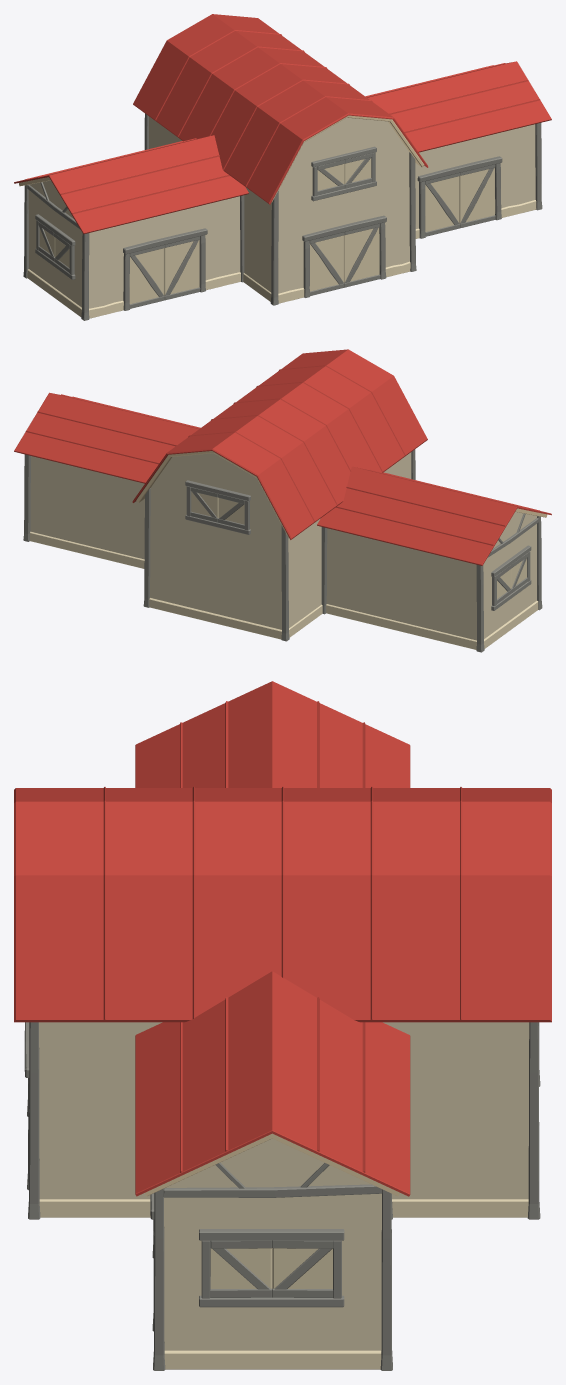
File: farmbuilding_d.gltf
3 renders of one model, top to bottom at view 1: azimuth 30°, elevation 25°; view 2: azimuth 150°, elevation 25°; view 3: azimuth 270°, elevation 25°, orthographic. The views are drawn at different scales.
Parts seen in each view (by area): view 1: Line071, Box710, Box790, farmbuilding_d001, Box762, Line072; view 2: Line071, Box710, Box790, Box762, farmbuilding_d001, Line072; view 3: Line071, Box710, Box790, Box762, farmbuilding_d001, Line072.
Boxes of the visible parts, x1,y1,x2,y2 form: Line071: (14, 14, 551, 234); Box710: (28, 116, 535, 308); Box790: (23, 113, 542, 320); farmbuilding_d001: (39, 158, 495, 304); Box762: (27, 200, 536, 318); Line072: (19, 115, 424, 202); Line071: (14, 349, 551, 565); Box710: (30, 452, 537, 640); Box790: (23, 449, 542, 652); Box762: (29, 531, 538, 649); farmbuilding_d001: (191, 491, 526, 598); Line072: (136, 451, 547, 537); Line071: (14, 681, 551, 1196); Box710: (39, 1022, 529, 1350); Box790: (24, 1022, 540, 1370); Box762: (39, 1199, 528, 1369); farmbuilding_d001: (210, 1248, 332, 1288); Line072: (145, 1133, 400, 1196).
Size of the model in its own units: 17.02 by 6.19 by 8.61.
1 material, 1 textured.
